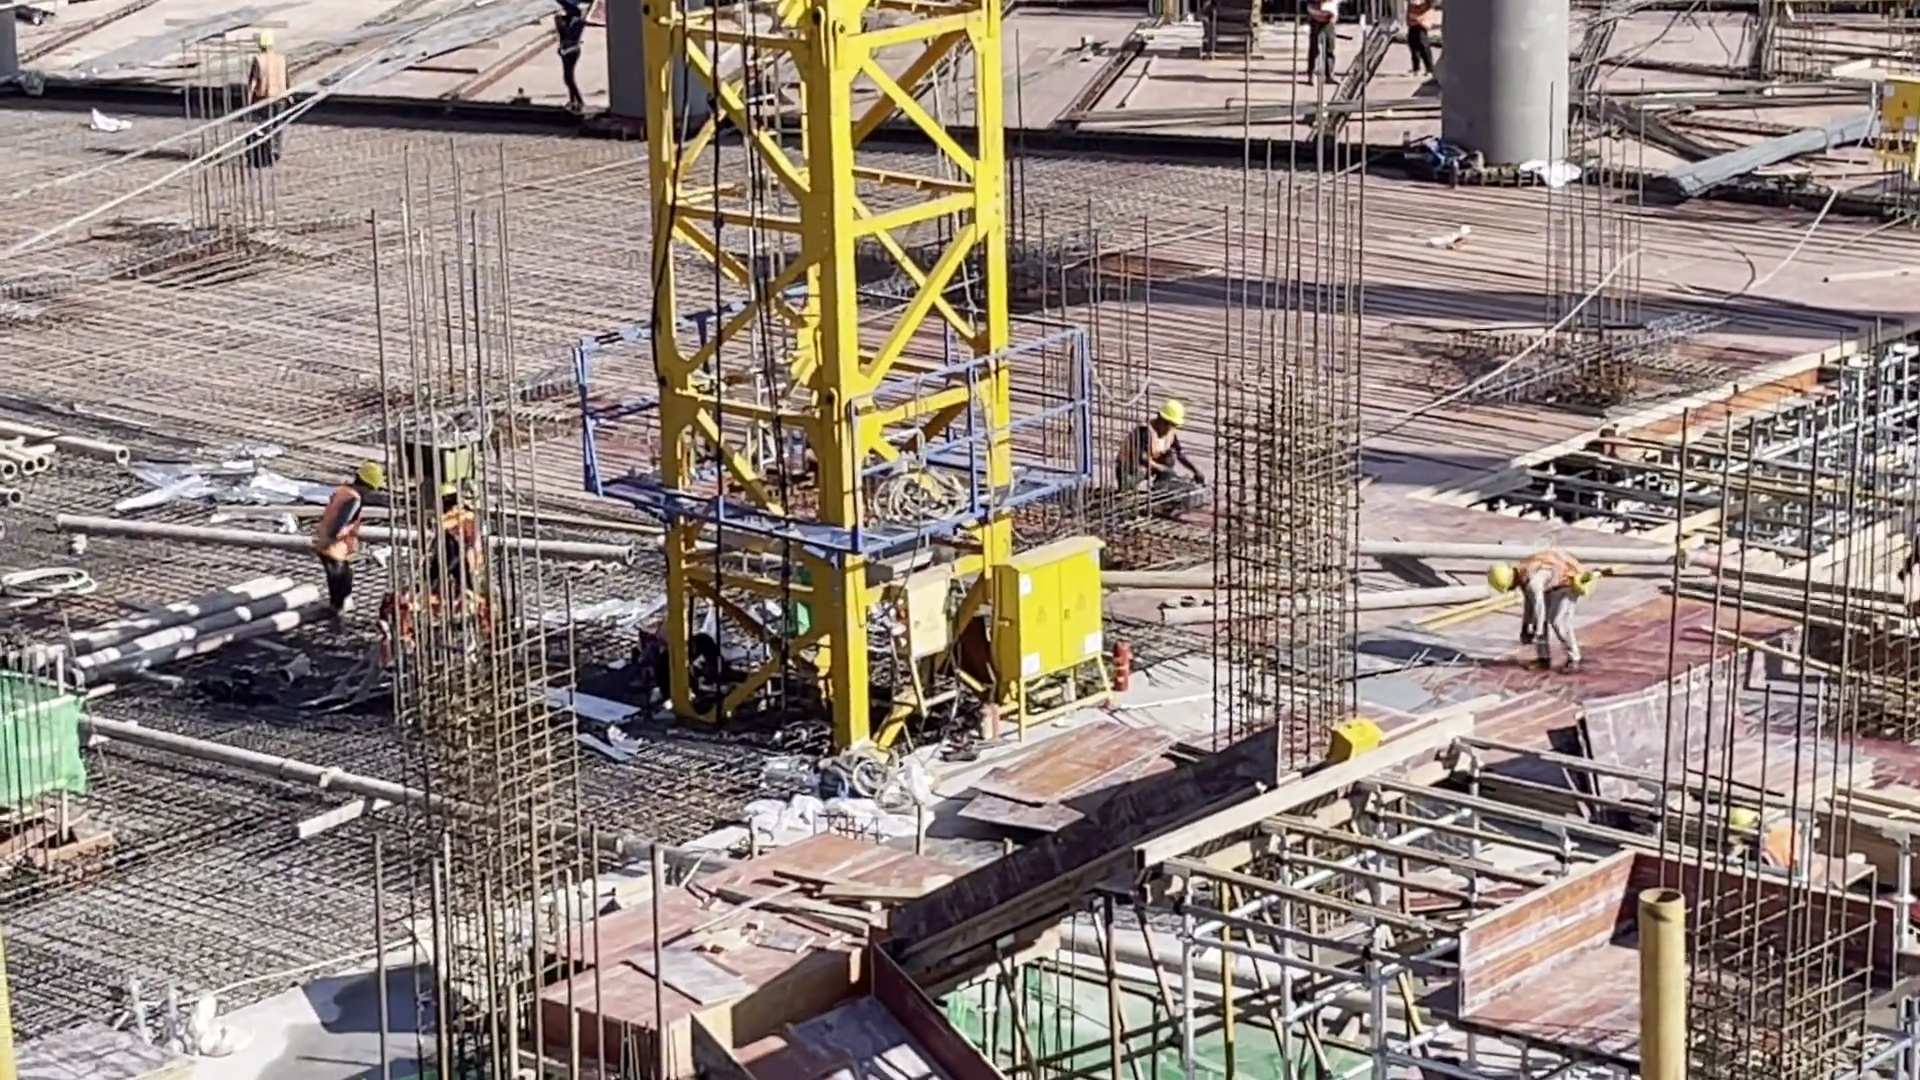helmet: (1157, 395, 1188, 428), (1483, 562, 1514, 593), (354, 462, 383, 489), (251, 27, 276, 49)
person: (1479, 537, 1592, 673), (317, 462, 388, 624), (1108, 396, 1206, 495), (237, 27, 291, 174), (1720, 805, 1804, 877), (547, 1, 593, 104), (1296, 1, 1340, 93), (1400, 1, 1443, 86)
vest: (316, 492, 372, 571), (1109, 423, 1173, 488), (1518, 547, 1582, 594), (252, 54, 288, 104), (1406, 1, 1440, 49), (1308, 1, 1339, 26)
